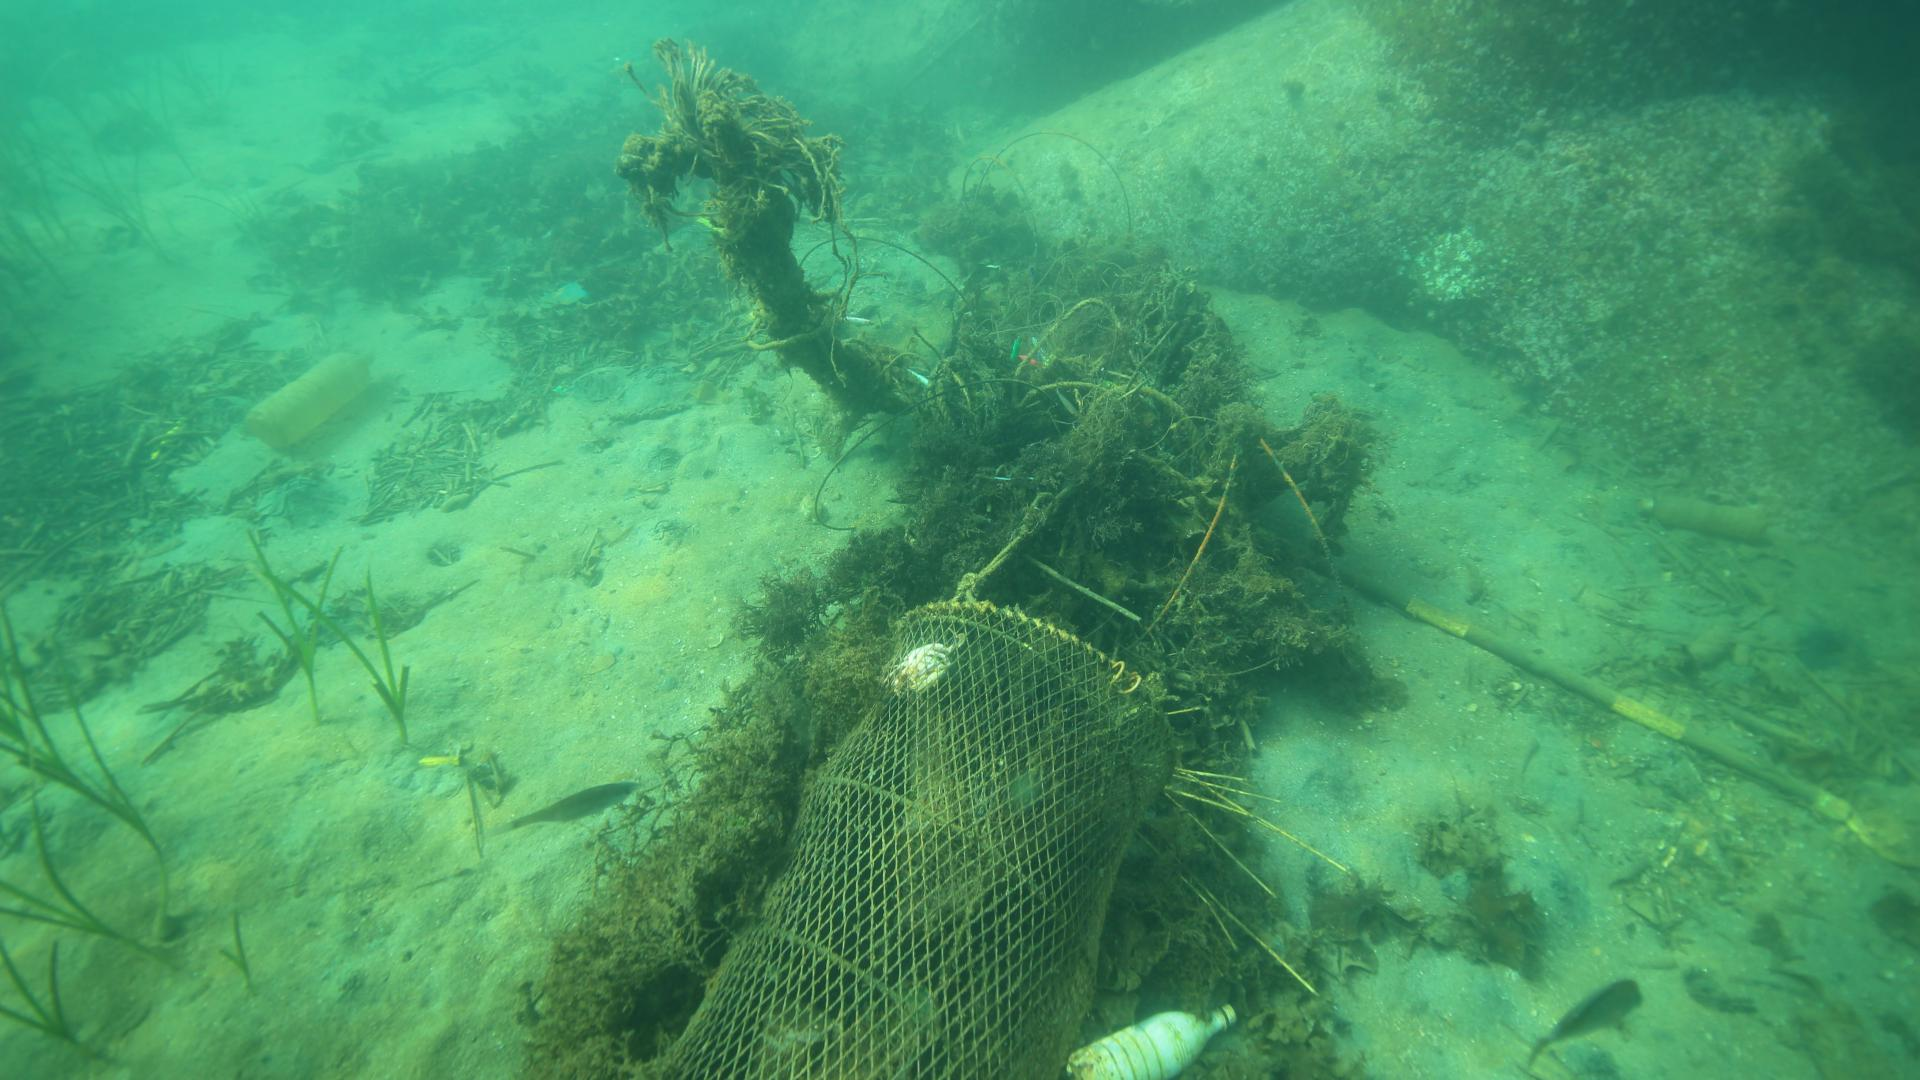bundle of ropes: (945, 514, 1039, 601)
spring fish trap: (670, 600, 1174, 1080)
